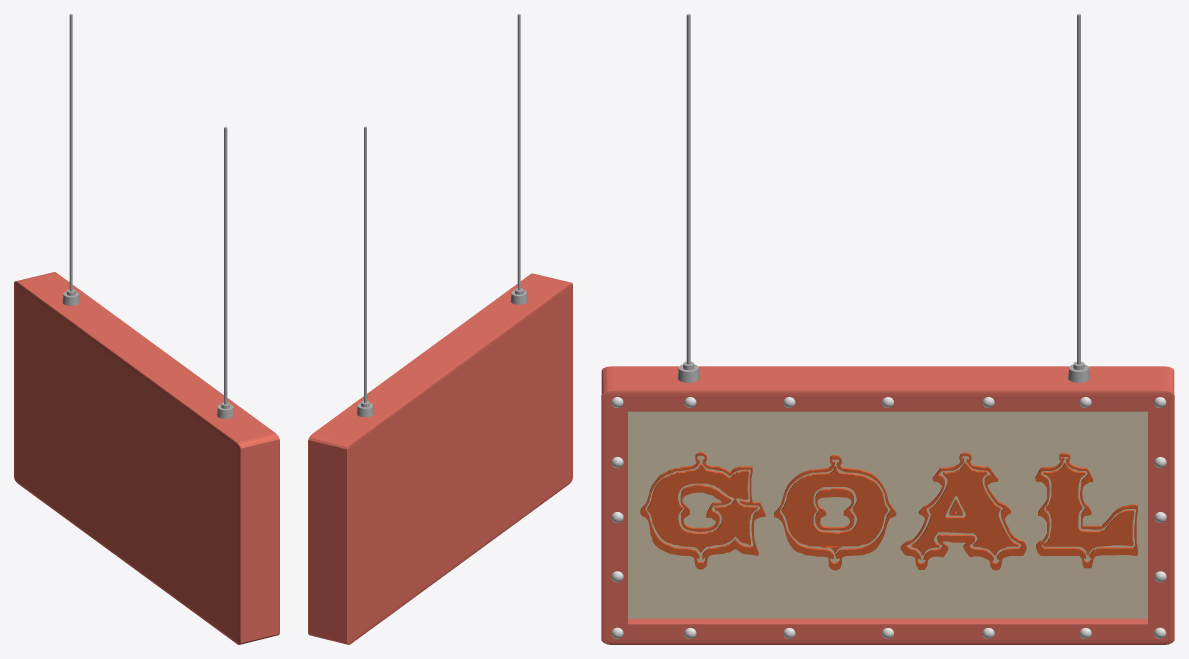
File: GOAL.fbx
3 views of the same model, side by side, from view 1: azimuth 30°, elevation 25°; view 2: azimuth 150°, elevation 25°; view 3: azimuth 270°, elevation 25° (orthographic). The views are drawn at different scales.
Parts seen in each view (by area): view 1: Cube, Cylinder.001, Cylinder; view 2: Cube, Cylinder, Cylinder.001; view 3: Cube, Text, Cylinder, Cylinder.001.
Boxes of the visible parts, box(x1,y1,x2,y2) form: Cube: box(14, 272, 279, 644); Cylinder.001: box(62, 14, 79, 305); Cylinder: box(217, 127, 234, 418); Cube: box(308, 273, 572, 644); Cylinder: box(510, 14, 527, 304); Cylinder.001: box(357, 126, 373, 417); Cube: box(601, 366, 1174, 644); Text: box(640, 452, 1137, 570); Cylinder: box(677, 14, 699, 382); Cylinder.001: box(1068, 14, 1089, 382).
Bounding box in the file's own units: 125 × 1378 × 1158.
